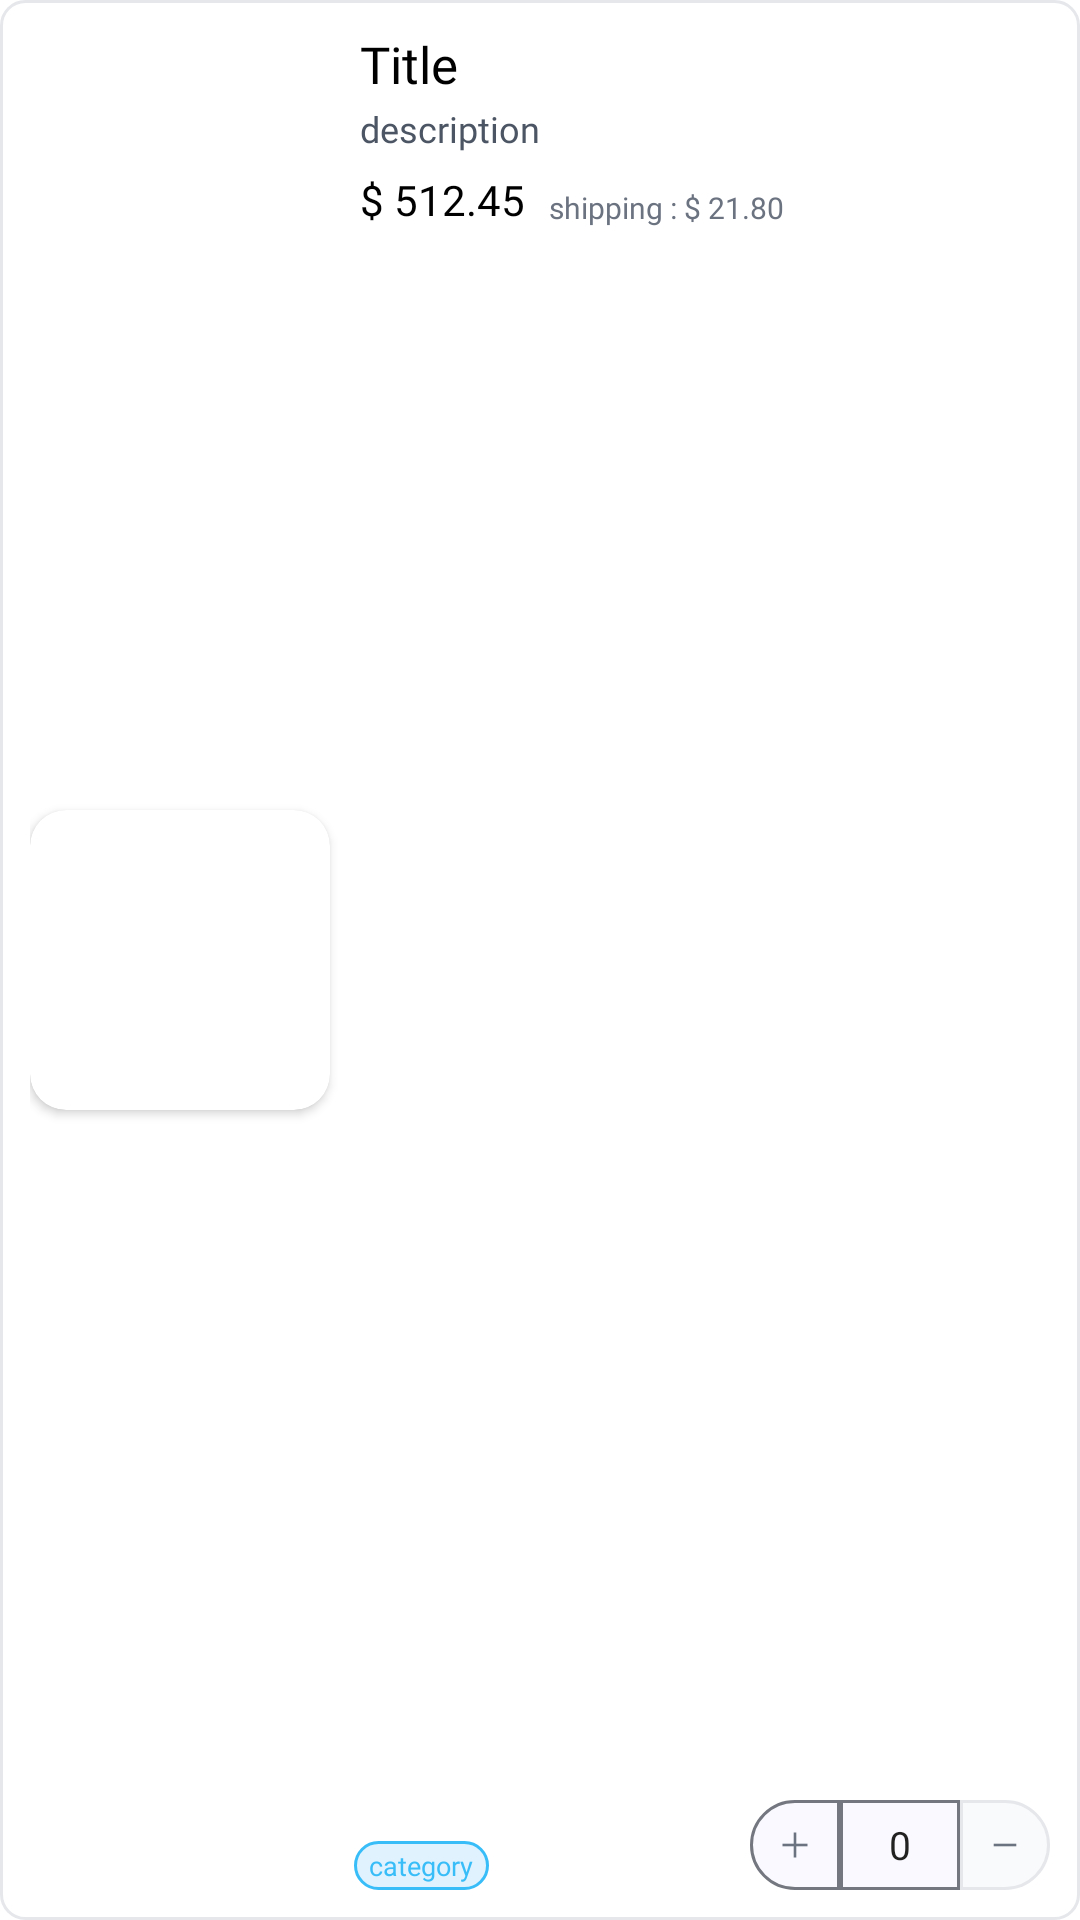

Icons on this 1080w x 1920h Android screen, each with its box as (x1, y1, x2, y2):
minus: (960, 1800, 1050, 1890)
plus: (750, 1800, 840, 1890)
